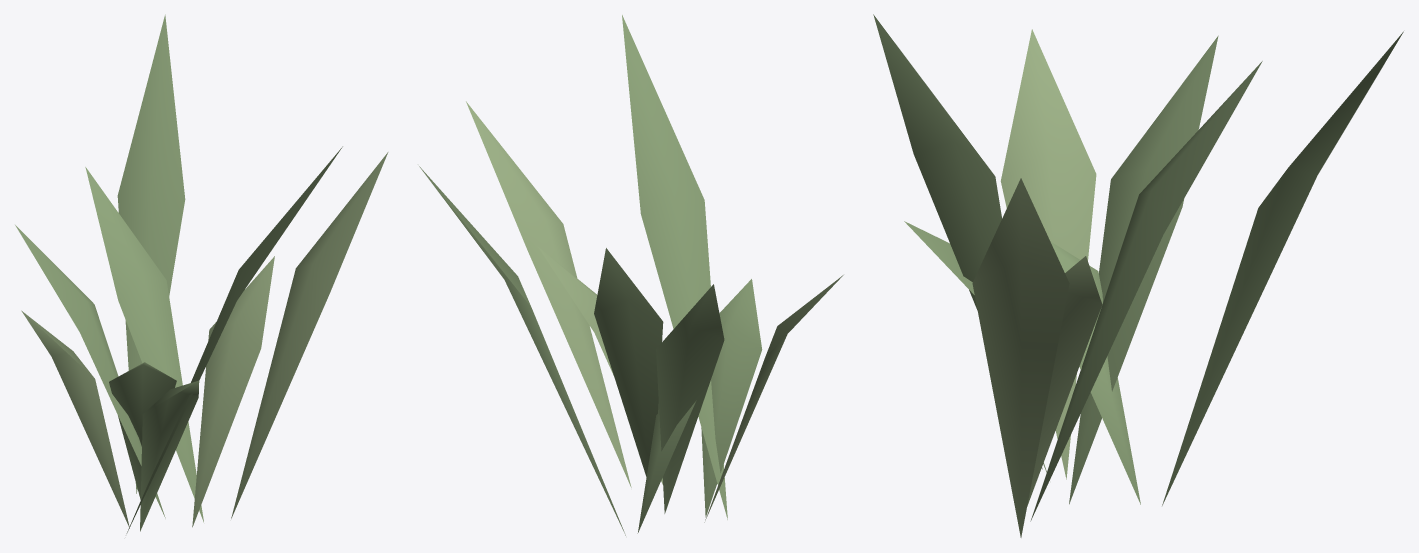
Rendered from SM_Grass_00_UV_0564.fbx.
3 views of the same model, side by side, from view 1: azimuth 30°, elevation 25°; view 2: azimuth 150°, elevation 25°; view 3: azimuth 270°, elevation 25° (orthographic). The views are drawn at different scales.
Visible parts, largest first — view 1: SM_Grass_00_UV_0564; view 2: SM_Grass_00_UV_0564; view 3: SM_Grass_00_UV_0564.
Boxes of the visible parts, box(x1,y1,x2,y2) form: SM_Grass_00_UV_0564: box(15, 14, 388, 533); SM_Grass_00_UV_0564: box(419, 15, 843, 535); SM_Grass_00_UV_0564: box(873, 14, 1403, 537).
Size of the model in its own units: 83.28 by 73.94 by 87.14.
